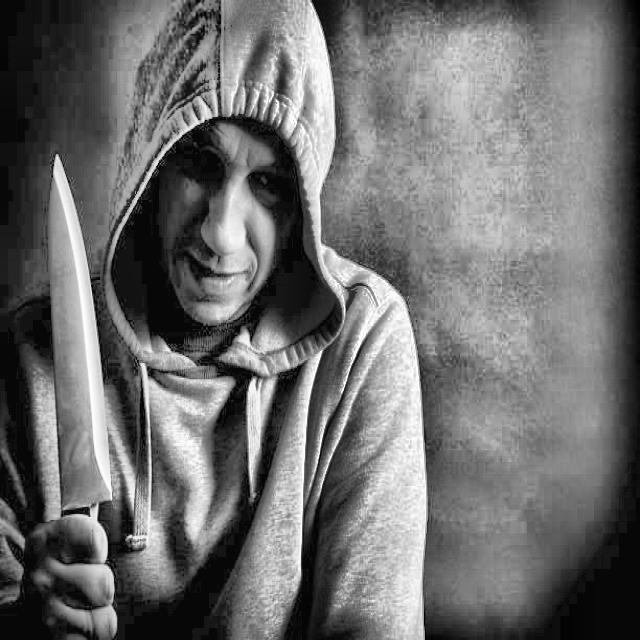pisau: (42, 152, 128, 634)
